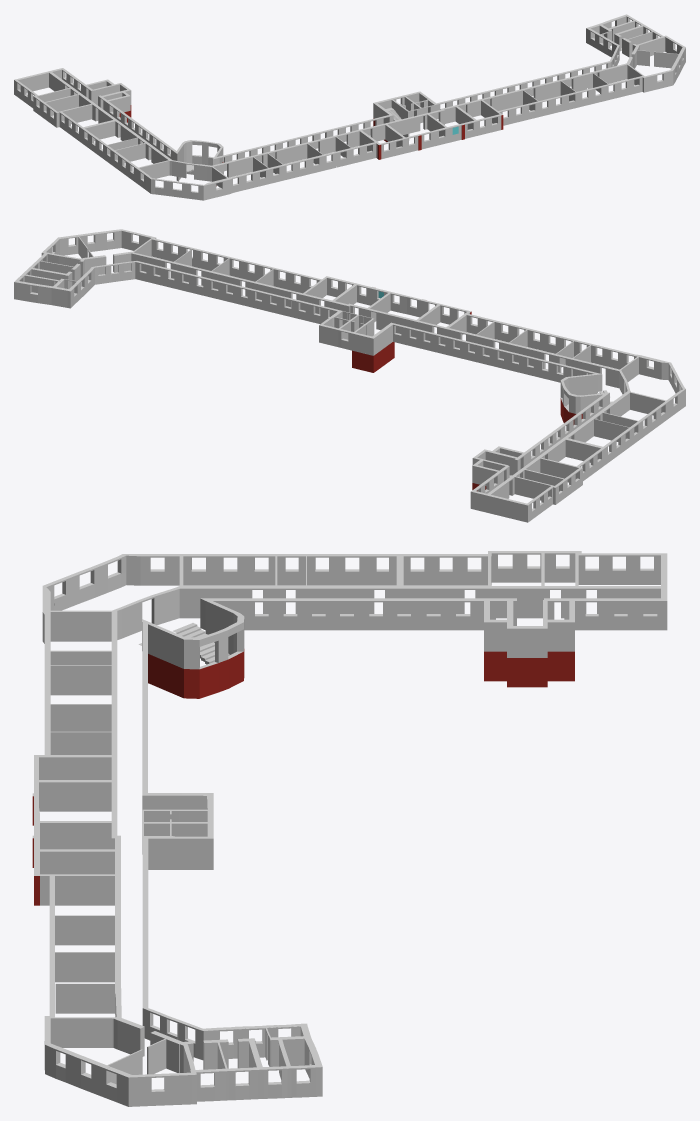
File: druhe.glb
3 views of the same model, one above another, from view 1: azimuth 30°, elevation 25°; view 2: azimuth 150°, elevation 25°; view 3: azimuth 270°, elevation 25° (orthographic). The views are drawn at different scales.
Visible parts, largest first — view 1: Planeg; view 2: Planeg; view 3: Planeg.
Boxes of the visible parts, x1,y1,x2,y2 form: Planeg: (14,14,685,200); Planeg: (14,229,685,522); Planeg: (32,551,667,1106).
Size of the model in its own units: 1.61 by 0.0844 by 0.8207.
